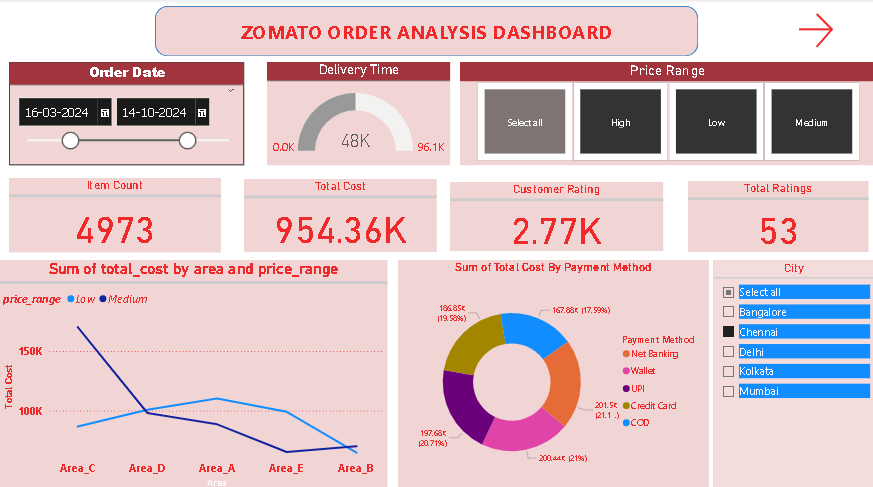

What the dashboard file says about the page in this screenshot:
{"tool":"powerbi","page":{"name":"Order ","canvas":[1280,720],"ordinal":2},"visuals":[{"type":"slicer","title":"Order Date","fields":{"Values":["Zomato_Orders -updated csv.order_date"]},"box":[13,92.2,344.2,151.2],"z":0},{"type":"slicer","title":"Price Range","fields":{"Values":["Zomato_Restaurants -updated csv.price_range"]},"box":[672.5,92.2,607.7,151.2],"z":1000},{"type":"card","title":"Customer Rating","fields":{"Values":["Sum(Zomato_Orders -updated csv.customer_rating)"]},"box":[658.1,267.8,312.5,100.8],"z":2000},{"type":"card","title":"Total  Cost","fields":{"Values":["Sum(Zomato_Orders -updated csv.total_cost)"]},"box":[357.1,263.5,282.2,106.6],"z":3000},{"type":"slicer","title":"City","fields":{"Values":["Zomato_Restaurants -updated csv.city"]},"box":[1044,381.6,236.2,338.4],"z":4000},{"type":"card","title":"Total Ratings","fields":{"Values":["CountNonNull(Zomato_Restaurants -updated csv.total_ratings)"]},"box":[1006.6,266.4,263.5,103.7],"z":5000},{"type":"card","title":"Item Count","fields":{"Values":["Sum(Zomato_Orders -updated csv.item_count)"]},"box":[13,262.1,309.6,109.4],"z":6000},{"type":"donutChart","title":"Sum of Total Cost By Payment Method","fields":{"Category":["Zomato_Orders -updated csv.payment_method"],"Y":["Sum(Zomato_Orders -updated csv.total_cost)"]},"box":[581.8,381.6,455,338.4],"z":7000},{"type":"lineChart","fields":{"Y":["Sum(Zomato_Orders -updated csv.total_cost)"],"Category":["Zomato_Restaurants -updated csv.area"],"Series":["Zomato_Restaurants -updated csv.price_range"]},"box":[0,381.6,567.4,338.4],"z":8000},{"type":"shape","box":[227.5,10.1,794.9,73.4],"z":9000},{"type":"actionButton","box":[1162,14.6,105.4,62.9],"z":10000},{"type":"gauge","title":" Delivery Time","fields":{"Y":["Sum(Zomato_Orders -updated csv.delivery_time)"]},"box":[390.2,92.2,267.8,151.2],"z":11000}]}

Visuals, with their boxes in screenshot pixels (x1, y1, x2, y2), scaled from the page's 1280x720 canvas onto the 873x487 screenshot:
"Order Date" slicer: [x1=9, y1=62, x2=244, y2=165]
"Price Range" slicer: [x1=459, y1=62, x2=872, y2=165]
"Customer Rating" card: [x1=449, y1=181, x2=662, y2=249]
"Total  Cost" card: [x1=244, y1=178, x2=436, y2=250]
"City" slicer: [x1=712, y1=258, x2=872, y2=486]
"Total Ratings" card: [x1=687, y1=180, x2=866, y2=250]
"Item Count" card: [x1=9, y1=177, x2=220, y2=251]
"Sum of Total Cost By Payment Method" donutChart: [x1=397, y1=258, x2=707, y2=486]
lineChart - Sum(Zomato_Orders -updated csv.total_cost) x Zomato_Restaurants -updated csv.area: [x1=0, y1=258, x2=387, y2=486]
shape: [x1=155, y1=7, x2=697, y2=56]
actionButton: [x1=793, y1=10, x2=864, y2=52]
" Delivery Time" gauge: [x1=266, y1=62, x2=449, y2=165]
